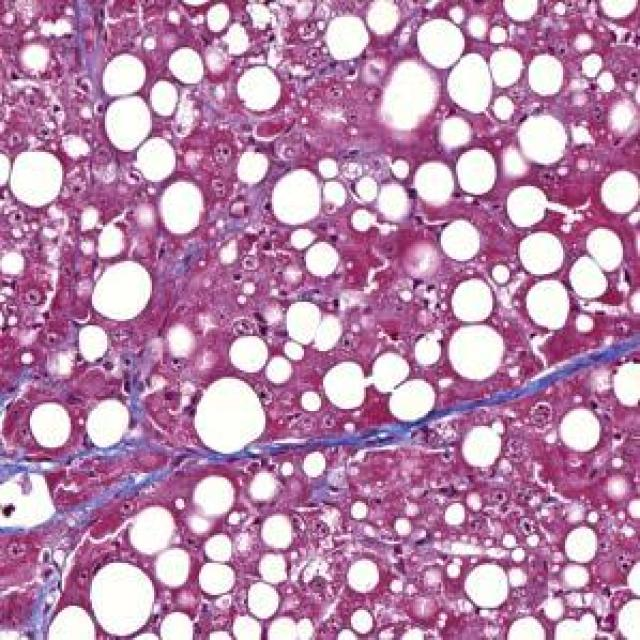fibrosis: (94, 434, 210, 510)
